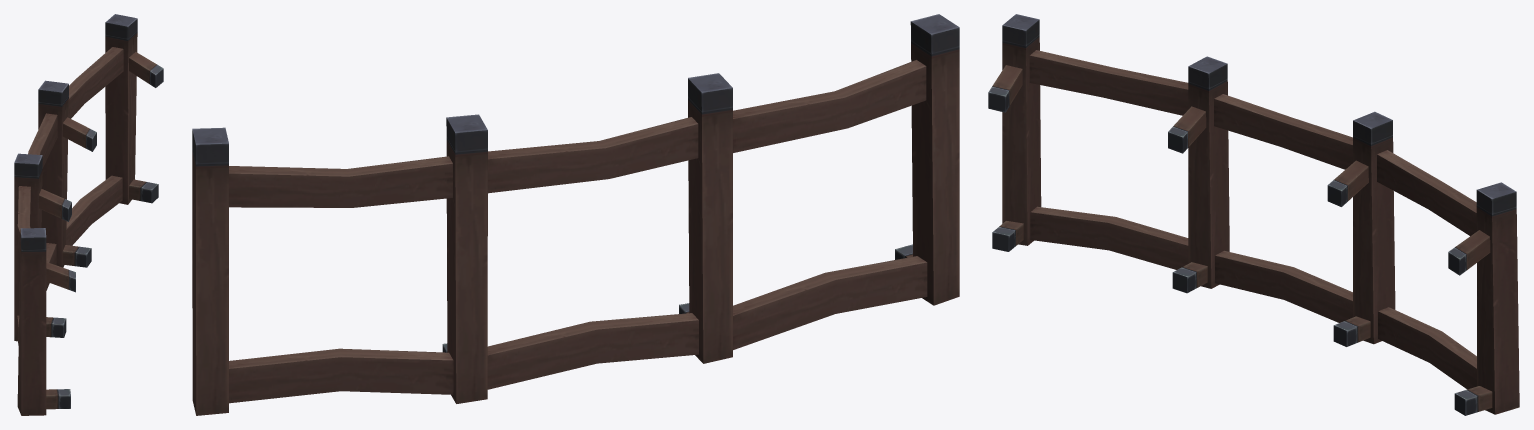
File: scene_malujiakuangdao_hulan03.FBX
3 renders of one model, left to right at view 1: azimuth 30°, elevation 25°; view 2: azimuth 150°, elevation 25°; view 3: azimuth 270°, elevation 25°, orthographic. The views are drawn at different scales.
Visible parts, largest first — view 1: scene_malujiakuangdao_hulan03; view 2: scene_malujiakuangdao_hulan03; view 3: scene_malujiakuangdao_hulan03.
Part boxes in pixels (<box>): scene_malujiakuangdao_hulan03: <box>14,14,163,415</box>; scene_malujiakuangdao_hulan03: <box>192,14,959,415</box>; scene_malujiakuangdao_hulan03: <box>988,14,1519,415</box>.
Size of the model in its own units: 373 by 195 by 434.
